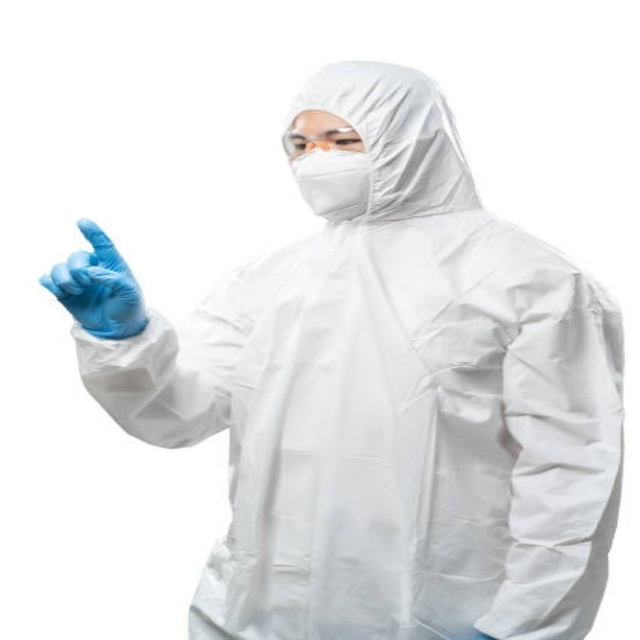Gafas: (283, 128, 363, 157)
Guantes: (39, 216, 150, 339)
Mascara: (289, 148, 375, 219)
